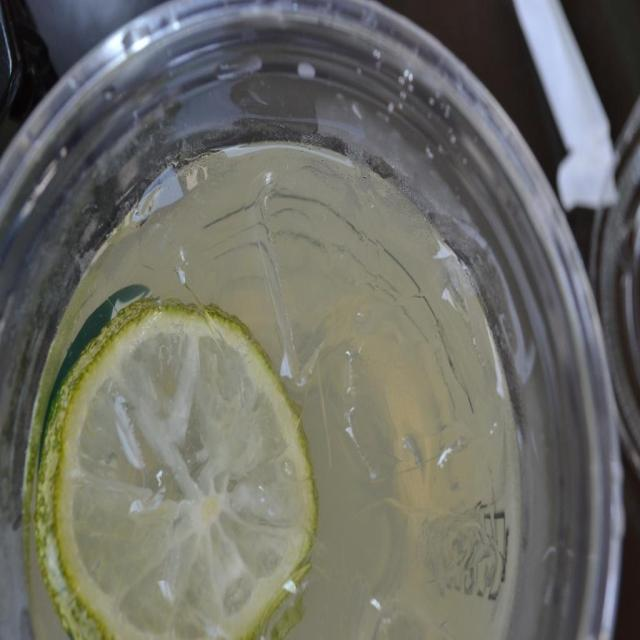Lemon: (35, 296, 313, 632)
